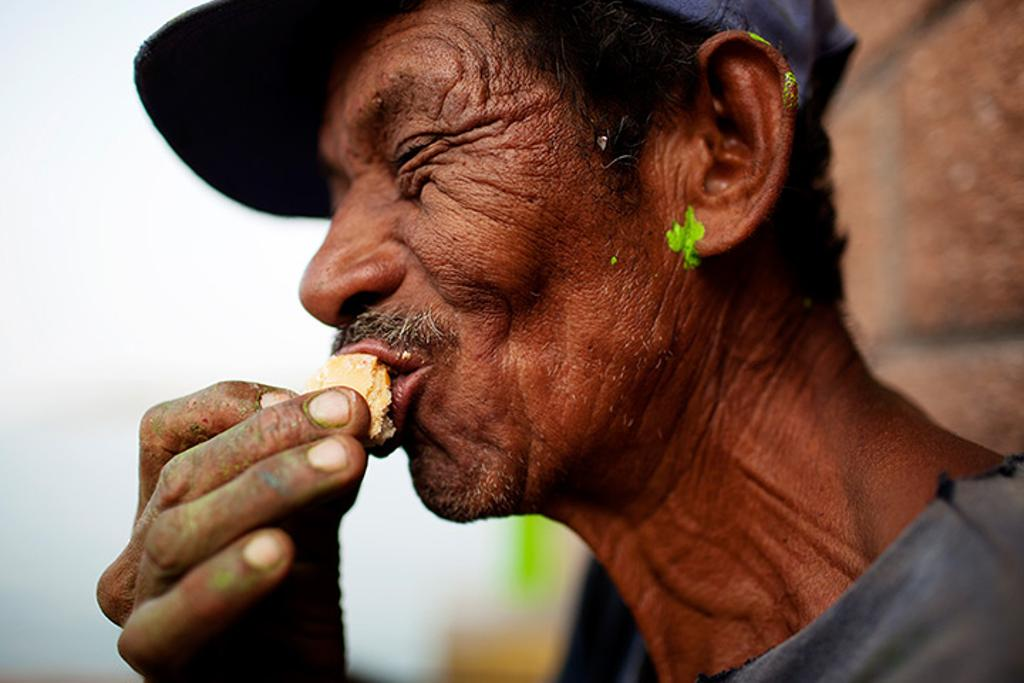face: (308, 10, 654, 494)
